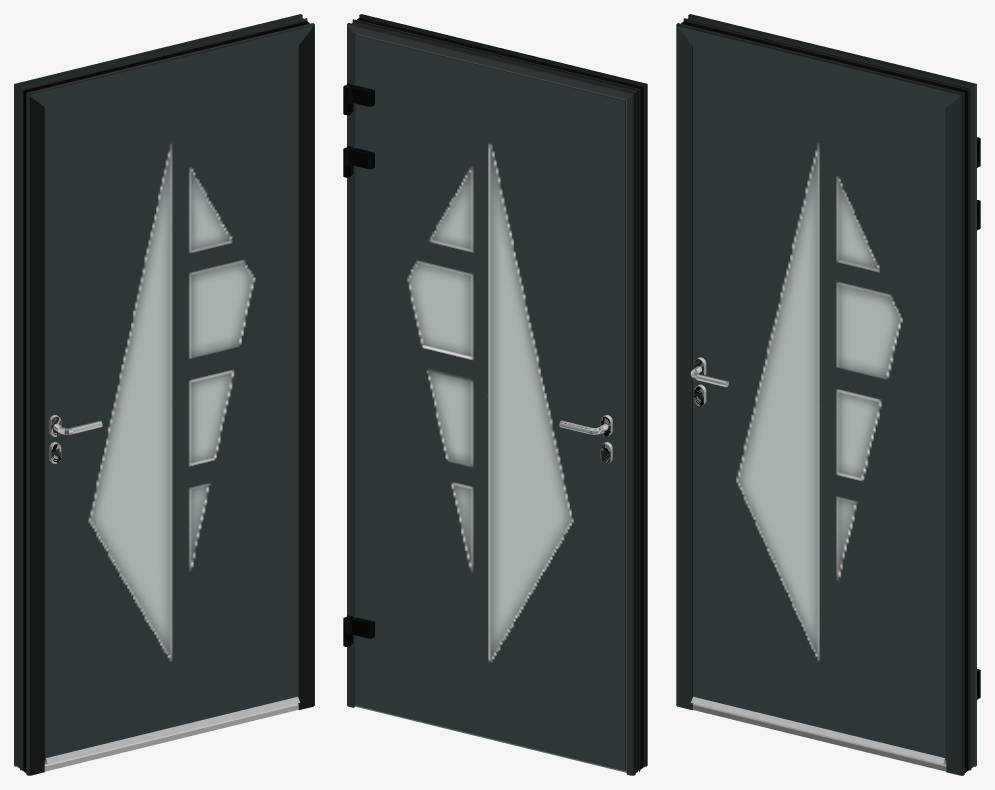
3 views of the same model, side by side, from view 1: azimuth 30°, elevation 25°; view 2: azimuth 150°, elevation 25°; view 3: azimuth 330°, elevation 25° (orthographic).
Visible parts, largest first — view 1: ouvrant, 85; view 2: ouvrant, 85; view 3: ouvrant, 85.
Boxes of the visible parts, x1,y1,x2,y2 form: ouvrant: (44,46,300,764); 85: (14,14,314,775); ouvrant: (343,34,626,770); 85: (343,14,647,775); ouvrant: (691,46,980,764); 85: (676,14,980,775).
Size of the model in its own units: 96 by 218 by 22.64.
Materials: 1 (1 with a texture image).
